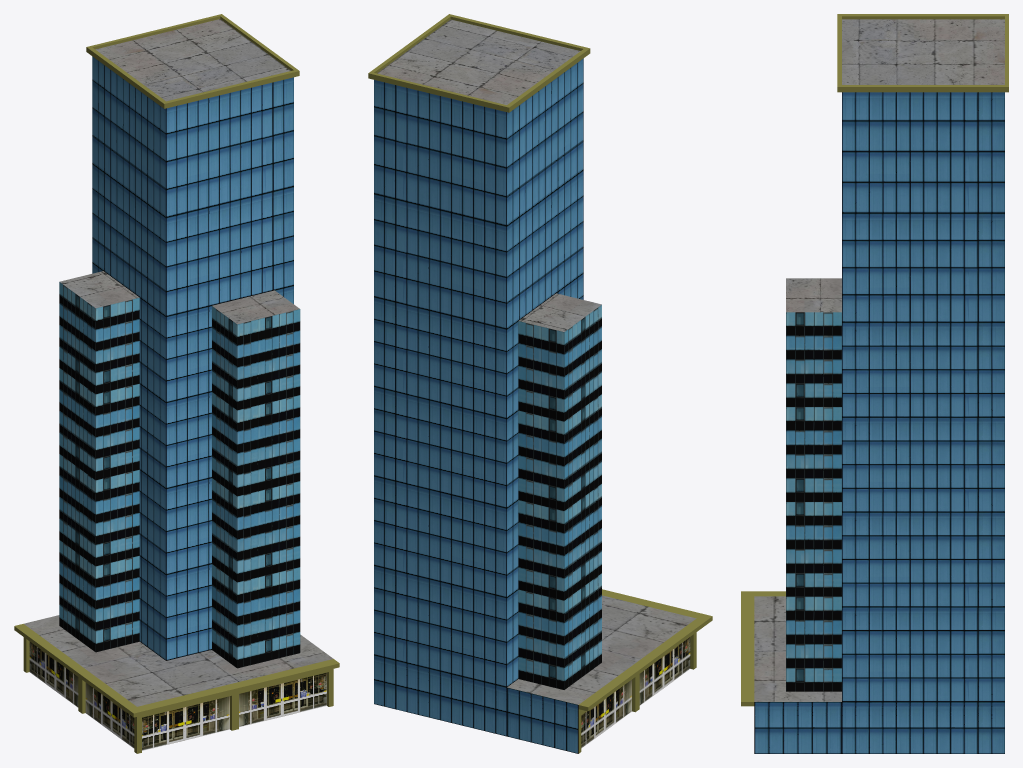
File: building21.FBX
3 views of the same model, side by side, from view 1: azimuth 30°, elevation 25°; view 2: azimuth 150°, elevation 25°; view 3: azimuth 270°, elevation 25° (orthographic). The views are drawn at different scales.
Visible parts, largest first — view 1: building21; view 2: building21; view 3: building21.
Boxes of the visible parts, x1=… form: building21: x1=14, y1=14, x2=339, y2=753; building21: x1=368, y1=14, x2=712, y2=753; building21: x1=741, y1=14, x2=1008, y2=753.
Size of the model in its own units: 128 by 354 by 128.
